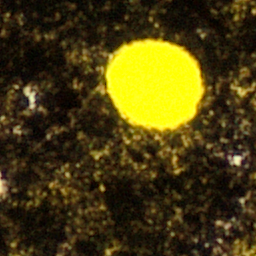air_pores: (103, 39, 204, 133)
cement_matrix: (0, 0, 255, 255), (102, 38, 205, 134), (233, 157, 237, 162), (28, 91, 32, 96)
gravel_crushed_stones: (0, 179, 4, 193), (234, 158, 236, 161), (29, 92, 31, 95)
